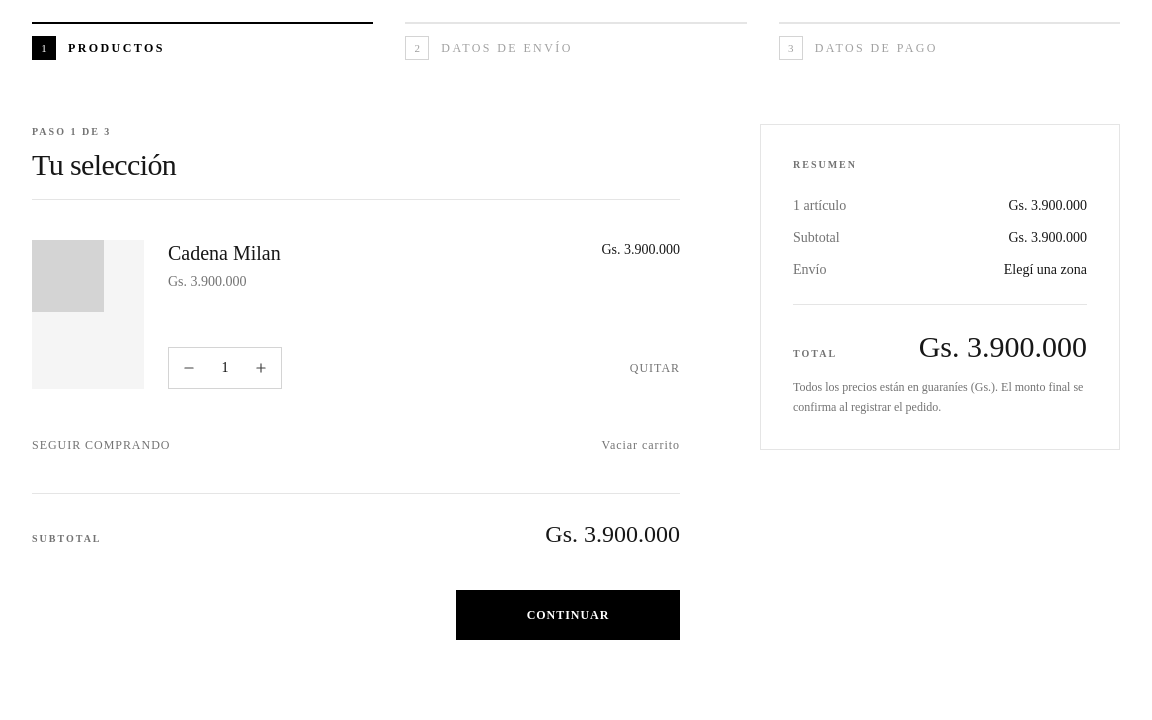
Test: CheckoutFlow: step 2 (shipping) › offers a country selector that defaults to Paraguay
(page scrolled)
Click the button "Continuar" at (568, 615), box [456, 590, 680, 640]
(page scrolled)
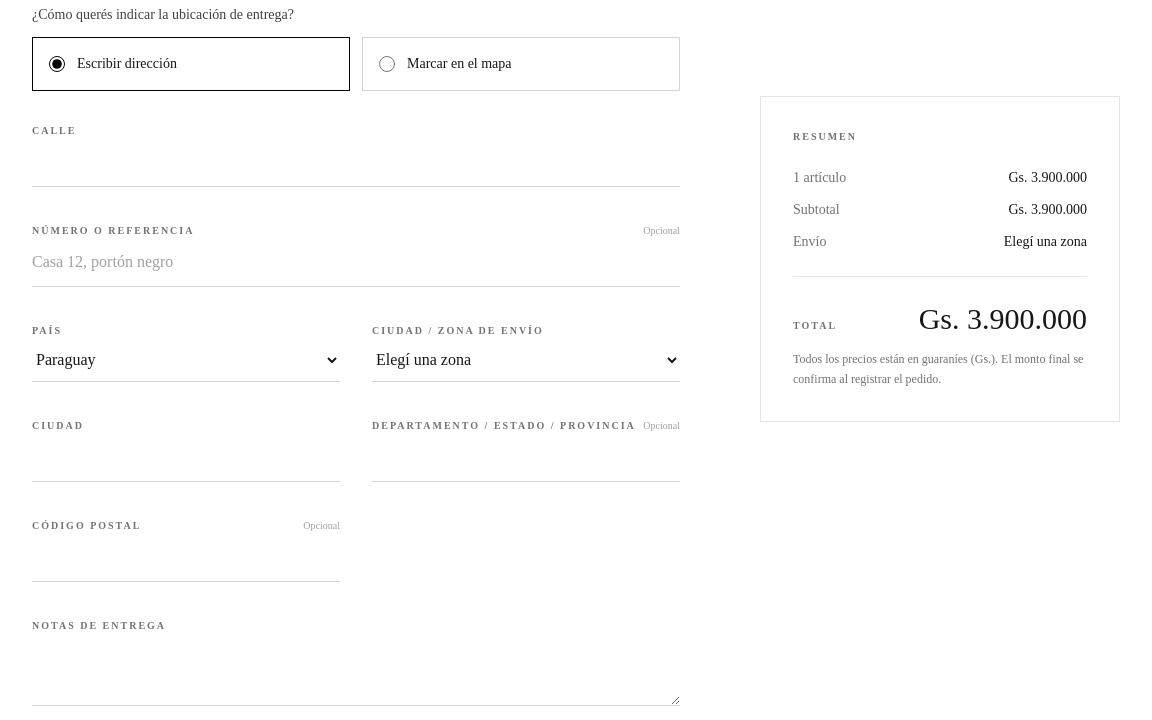
Check: the dropdown labelled "País" shows "Paraguay", box [32, 338, 340, 382]
